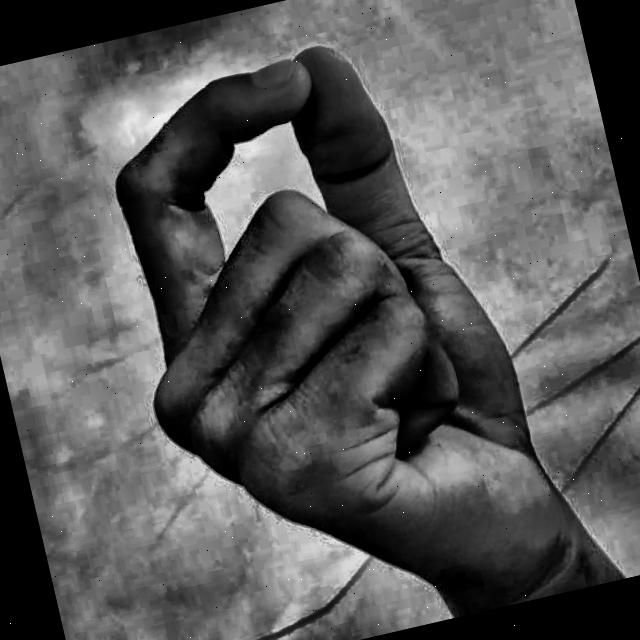Gha: (35, 0, 635, 640)
